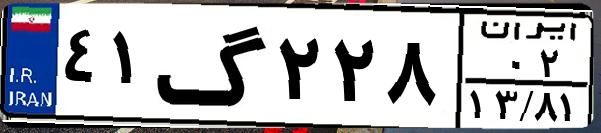0: (508, 27, 537, 80)
1: (110, 28, 156, 98), (560, 70, 590, 125), (470, 70, 495, 125)
2: (270, 28, 330, 110), (330, 28, 385, 110), (537, 27, 568, 80)
3: (495, 70, 520, 125)
4: (57, 26, 110, 100)
8: (385, 28, 445, 110), (535, 70, 560, 125)
گ: (156, 12, 270, 120)
